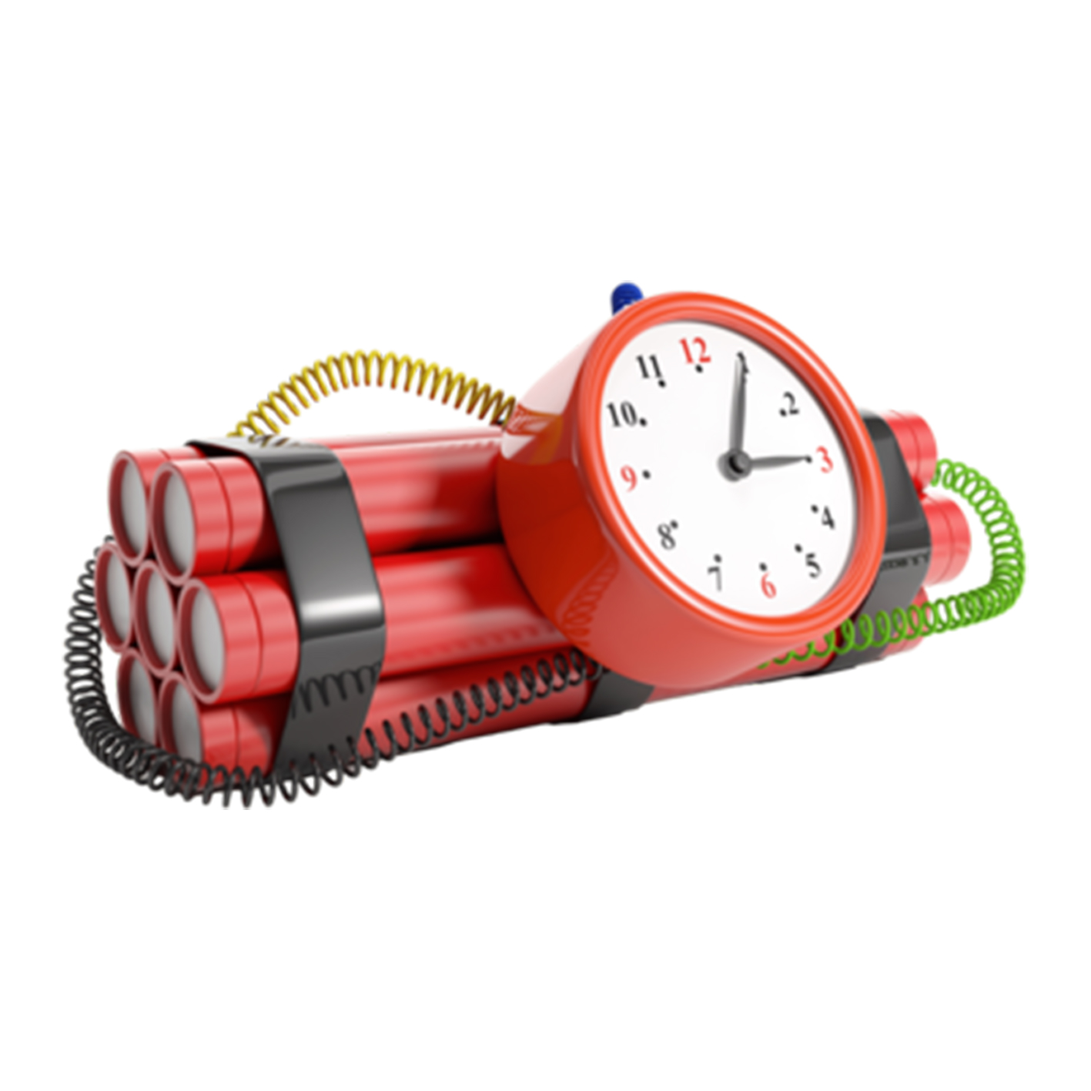mine: (608, 281, 645, 314), (618, 463, 652, 492)
